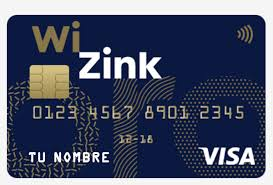tarjeta: (7, 15, 266, 178)
